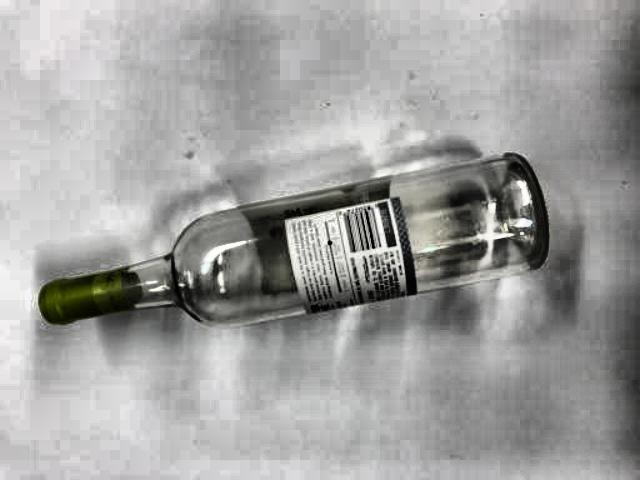Bottles: (17, 157, 551, 367)
